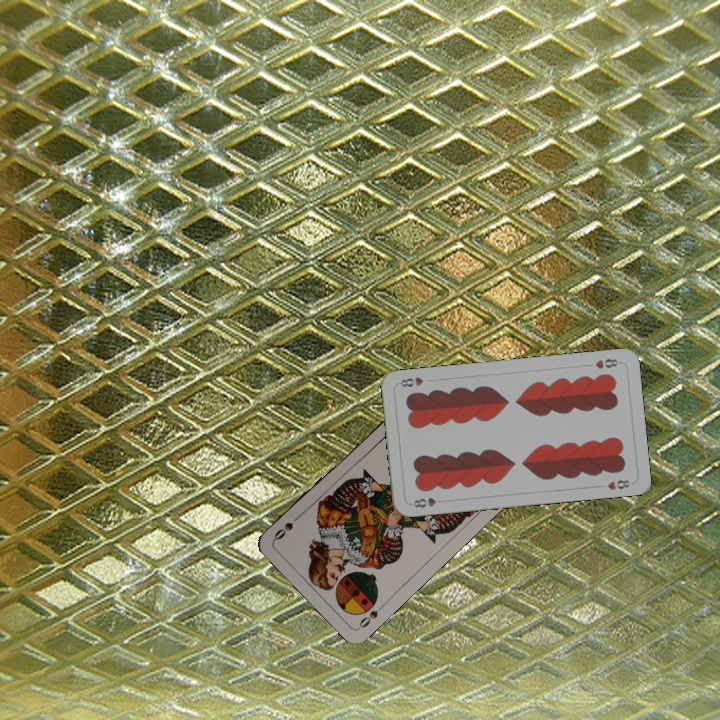H8: (410, 494, 447, 510), (591, 355, 623, 372)
SO: (355, 600, 387, 631)
